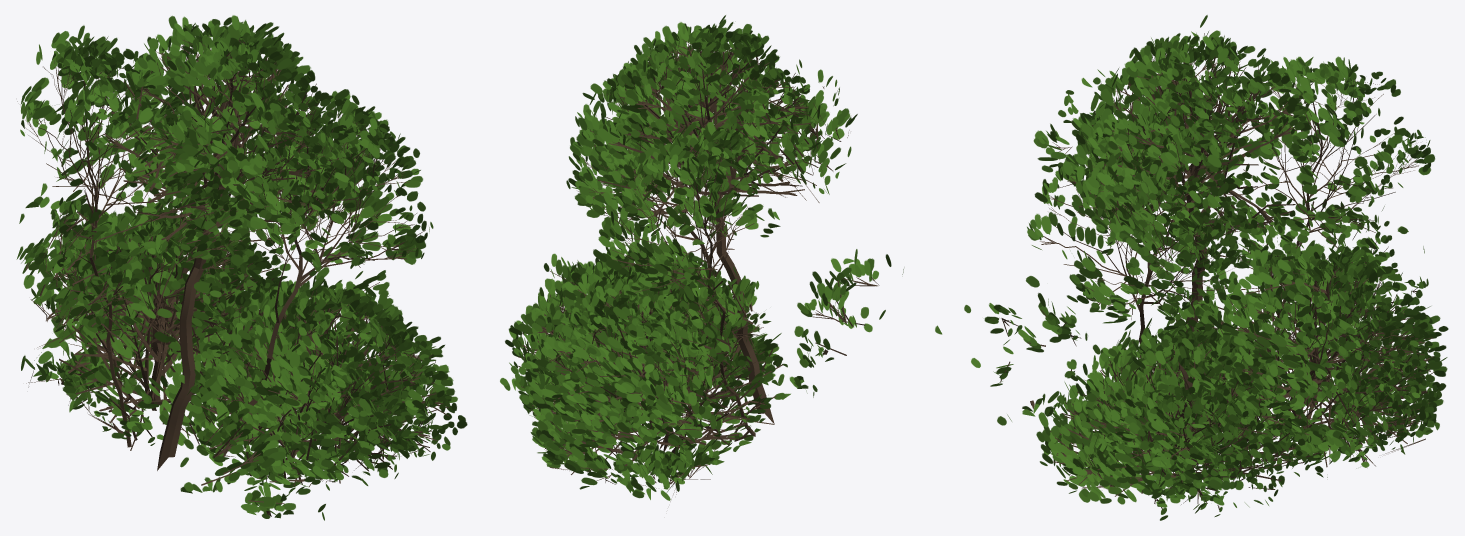
3 renders of one model, left to right at view 1: azimuth 30°, elevation 25°; view 2: azimuth 150°, elevation 25°; view 3: azimuth 270°, elevation 25°, orthographic. The views are drawn at different scales.
Parts seen in each view (by area): view 1: oak 01.001_trunk_Mat.001_0.322; view 2: oak 01.001_trunk_Mat.001_0.322; view 3: oak 01.001_trunk_Mat.001_0.322.
Boxes of the visible parts, x1=… form: oak 01.001_trunk_Mat.001_0.322: x1=16, y1=15, x2=467, y2=520; oak 01.001_trunk_Mat.001_0.322: x1=500, y1=15, x2=904, y2=501; oak 01.001_trunk_Mat.001_0.322: x1=935, y1=15, x2=1448, y2=520.
Size of the model in its own units: 3.02 by 4 by 4.49.
Materials: 2 (1 with a texture image).
